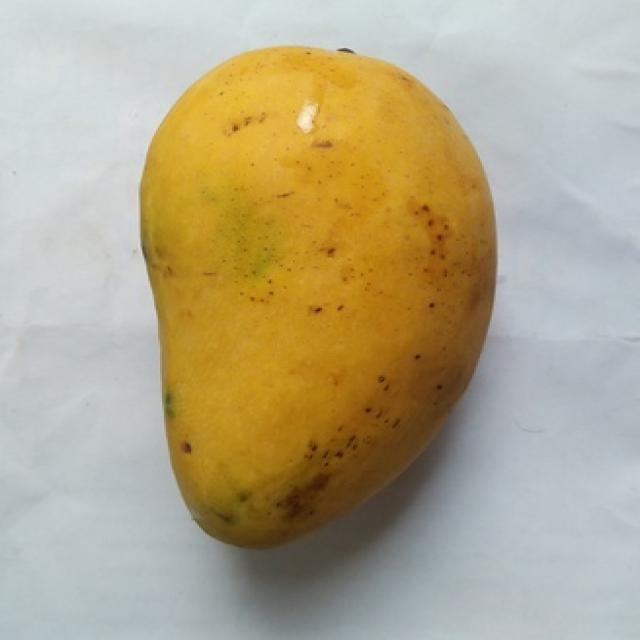Mango: (140, 48, 494, 546)
